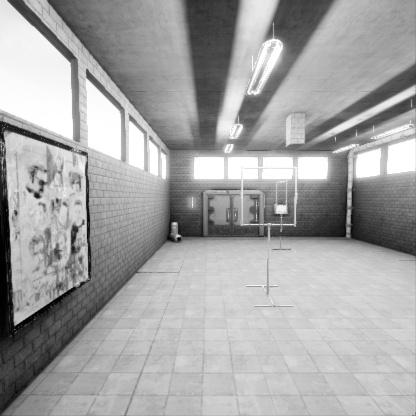gate: (242, 193, 300, 250), (276, 204, 287, 236)
